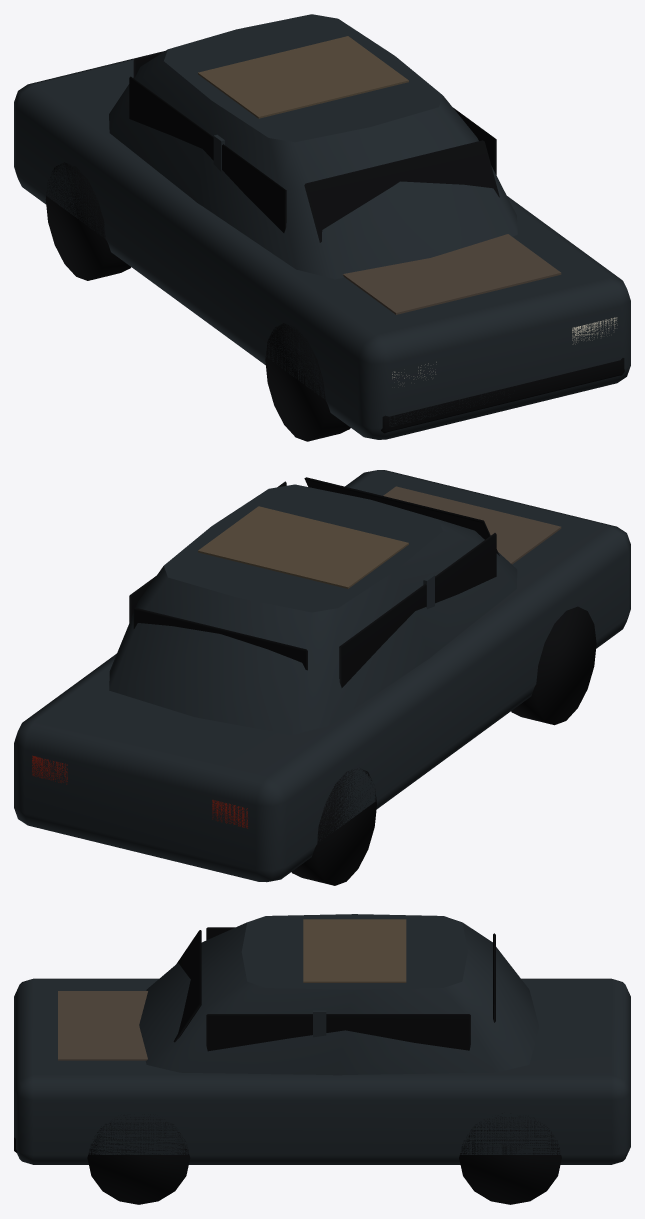
File: car-burning.glb
3 renders of one model, top to bottom at view 1: azimuth 30°, elevation 25°; view 2: azimuth 150°, elevation 25°; view 3: azimuth 270°, elevation 25°, orthographic. The views are drawn at different scales.
Visible parts, largest first — view 1: car-burning, scorched-roof, scorched-hood; view 2: car-burning, scorched-roof, scorched-hood; view 3: car-burning, scorched-roof, scorched-hood.
Part boxes in pixels (x1,y1,x2,y2): car-burning: (14,14,630,441); scorched-roof: (198,36,408,118); scorched-hood: (343,234,561,314); car-burning: (14,470,630,885); scorched-roof: (198,506,408,588); scorched-hood: (383,486,561,564); car-burning: (14,914,630,1204); scorched-roof: (303,919,406,982); scorched-hood: (58,991,147,1060).
Size of the model in its own units: 1.8 by 1.49 by 4.2.
3 materials, 1 textured.
